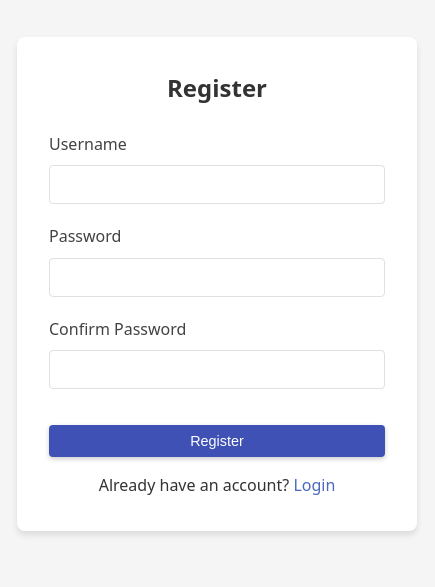
Test: Register Component › validates password confirmation
Step 1. Type "testuser" into the field labelled "Username" → (217, 185), box [49,165,385,204]
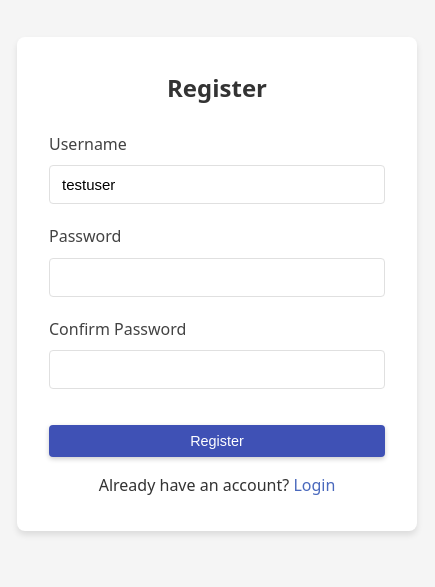
Step 2. Type "password123" into the password field labelled "Password" → (217, 277), box [49,258,385,297]
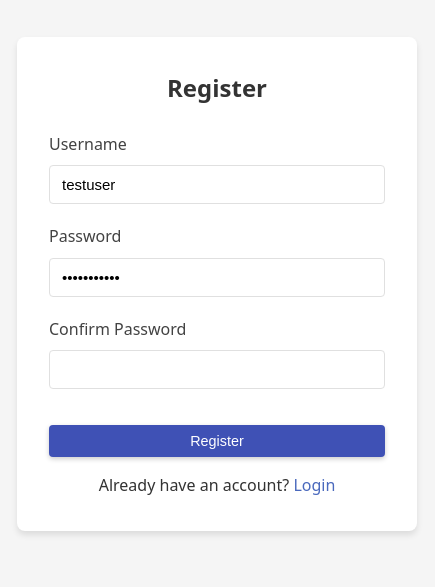
Step 3. Type "differentpassword" into the password field labelled "Confirm Password" → (217, 370), box [49,350,385,389]
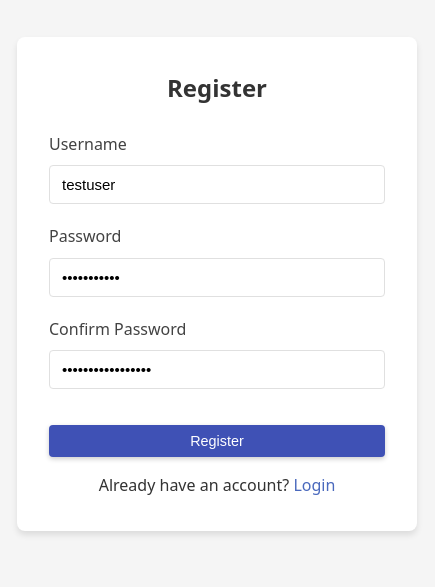
Step 4. Click the button "Register" → click(217, 441), box [49,425,385,457]
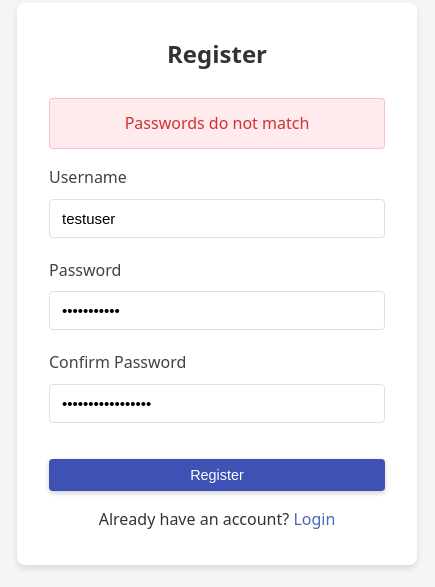
Result: the text "Passwords do not match" is shown at [49,98,385,149]
